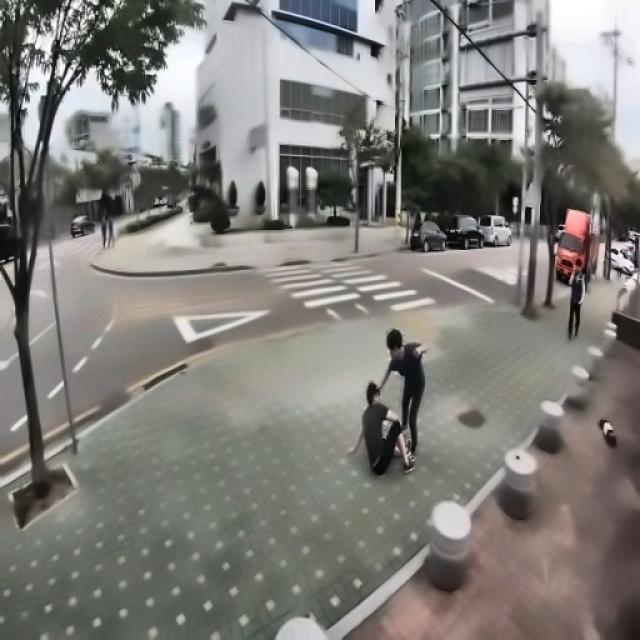violence: (346, 328, 428, 476)
